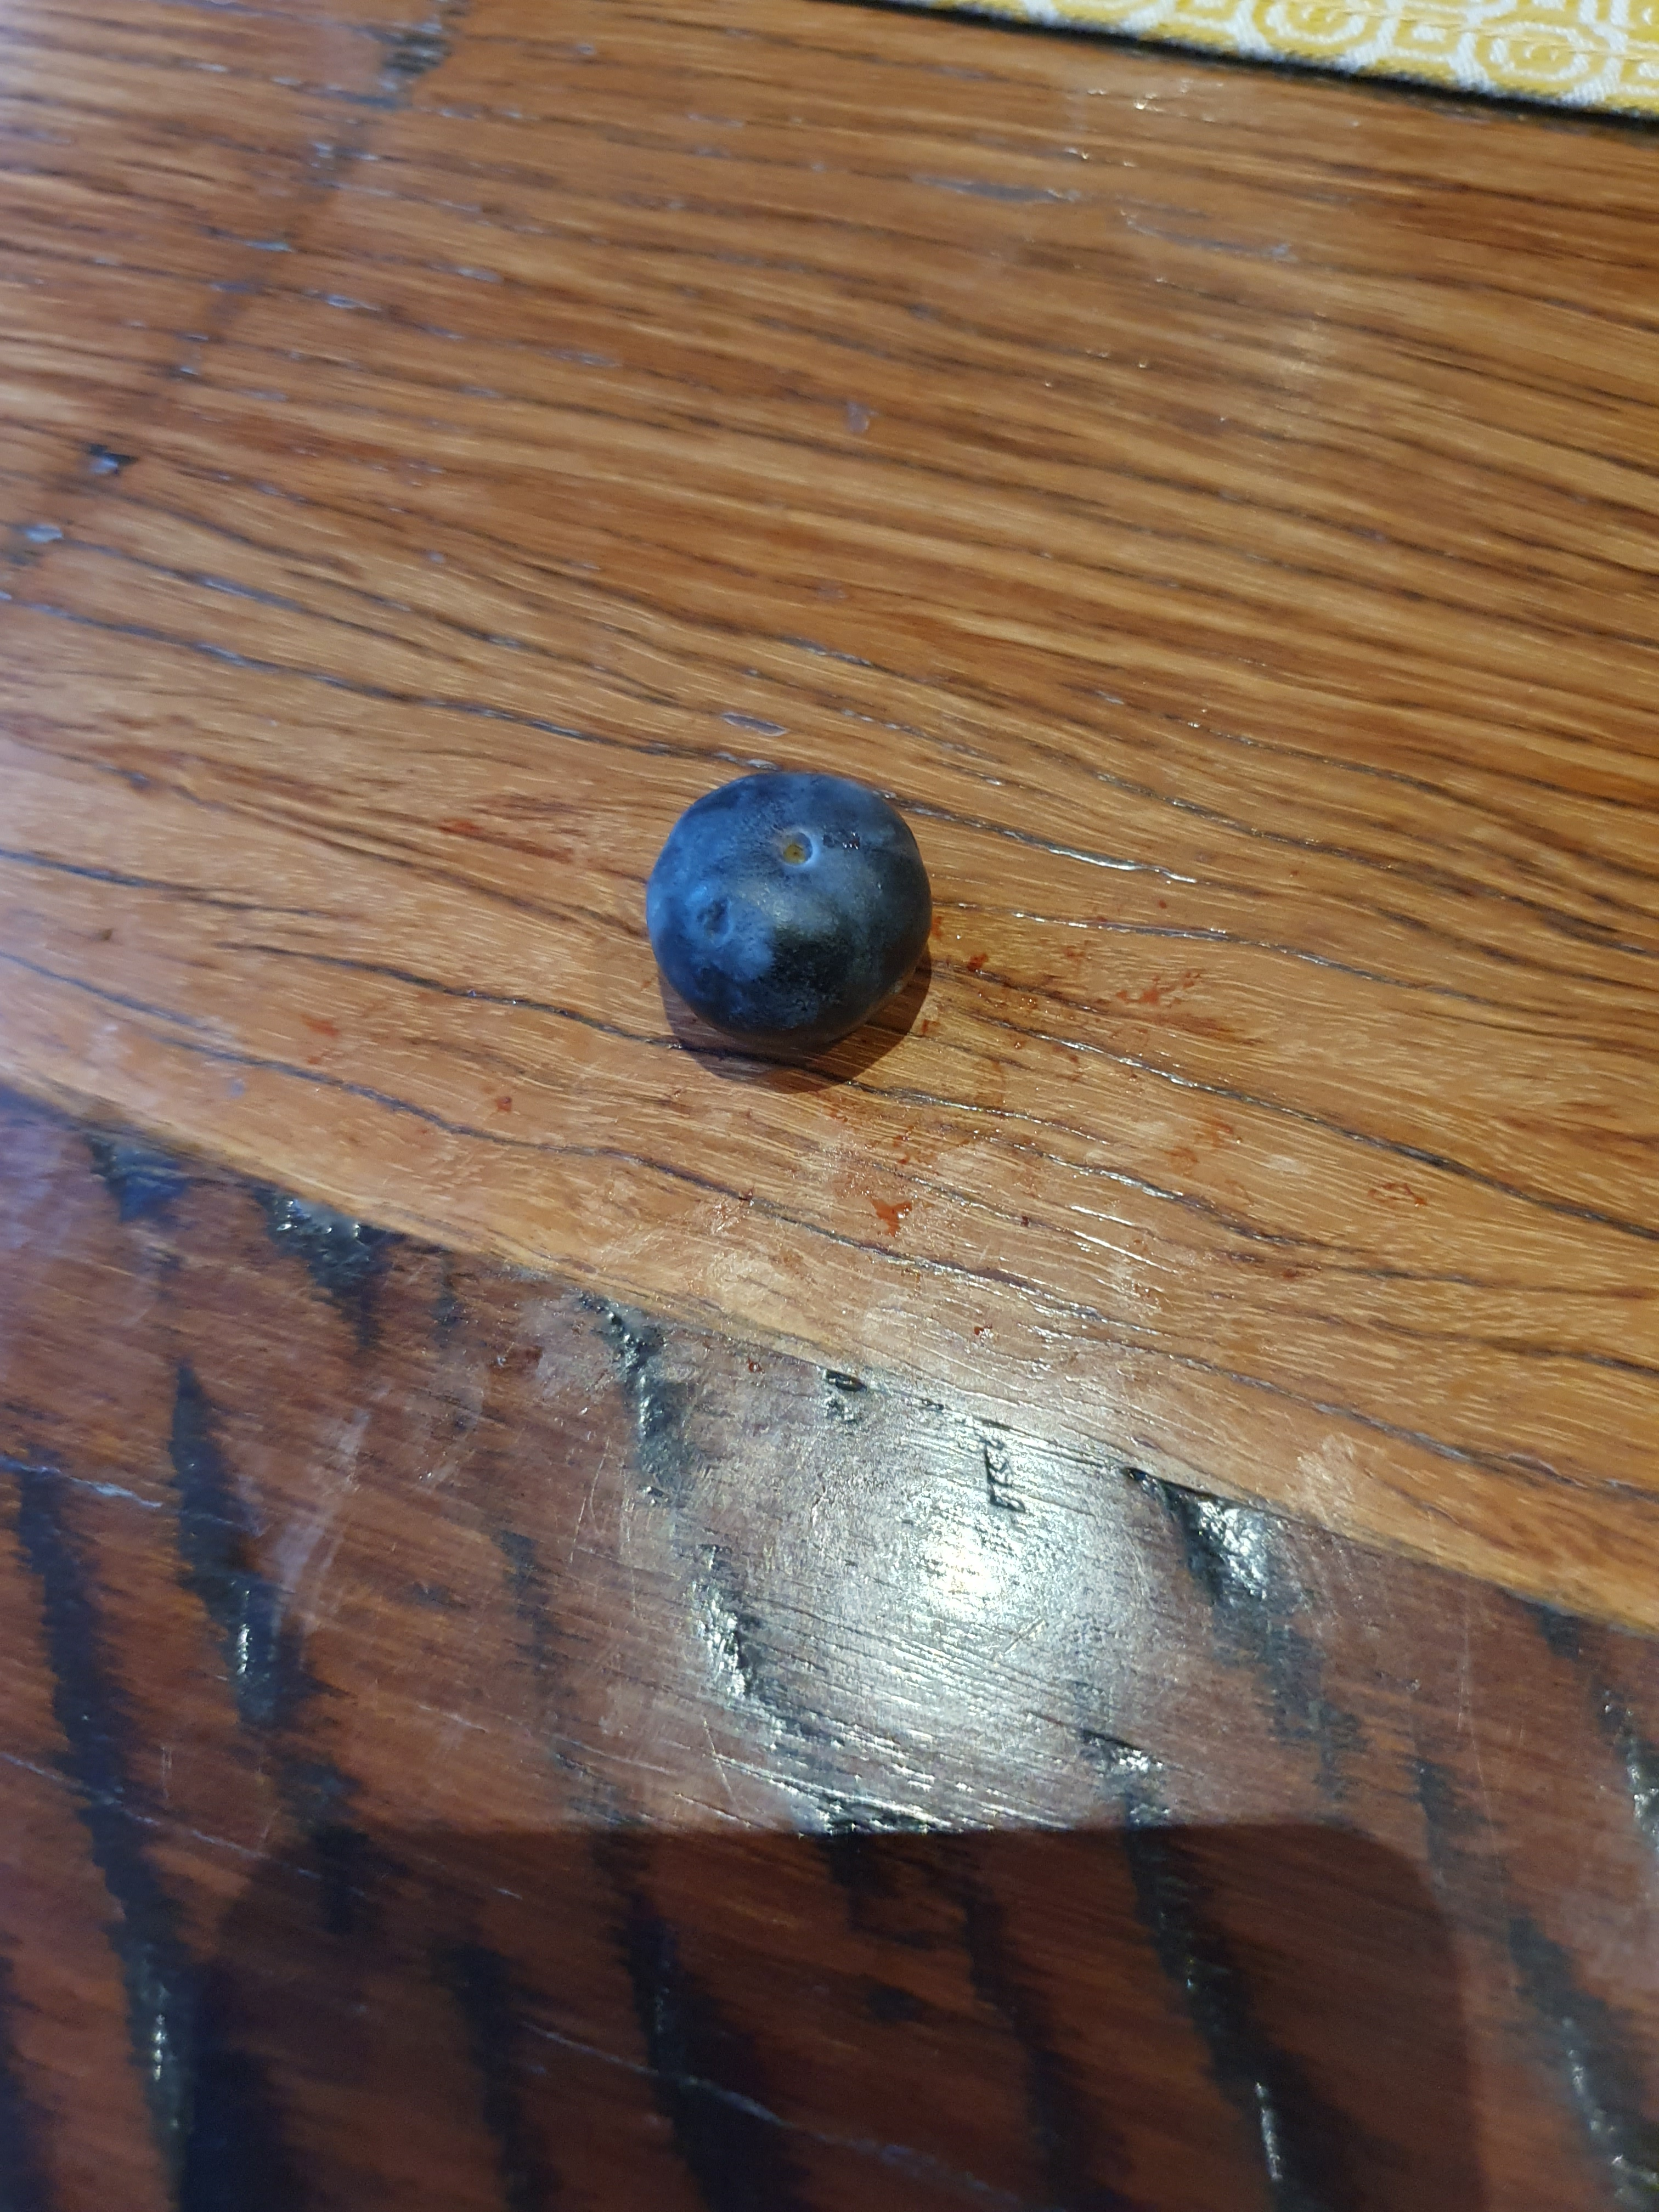blueberry: (622, 754, 950, 1061)
